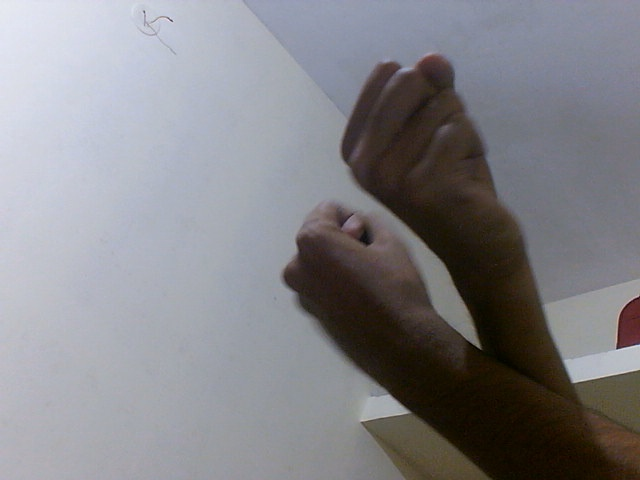hand: (337, 52, 534, 275), (277, 195, 447, 386)
